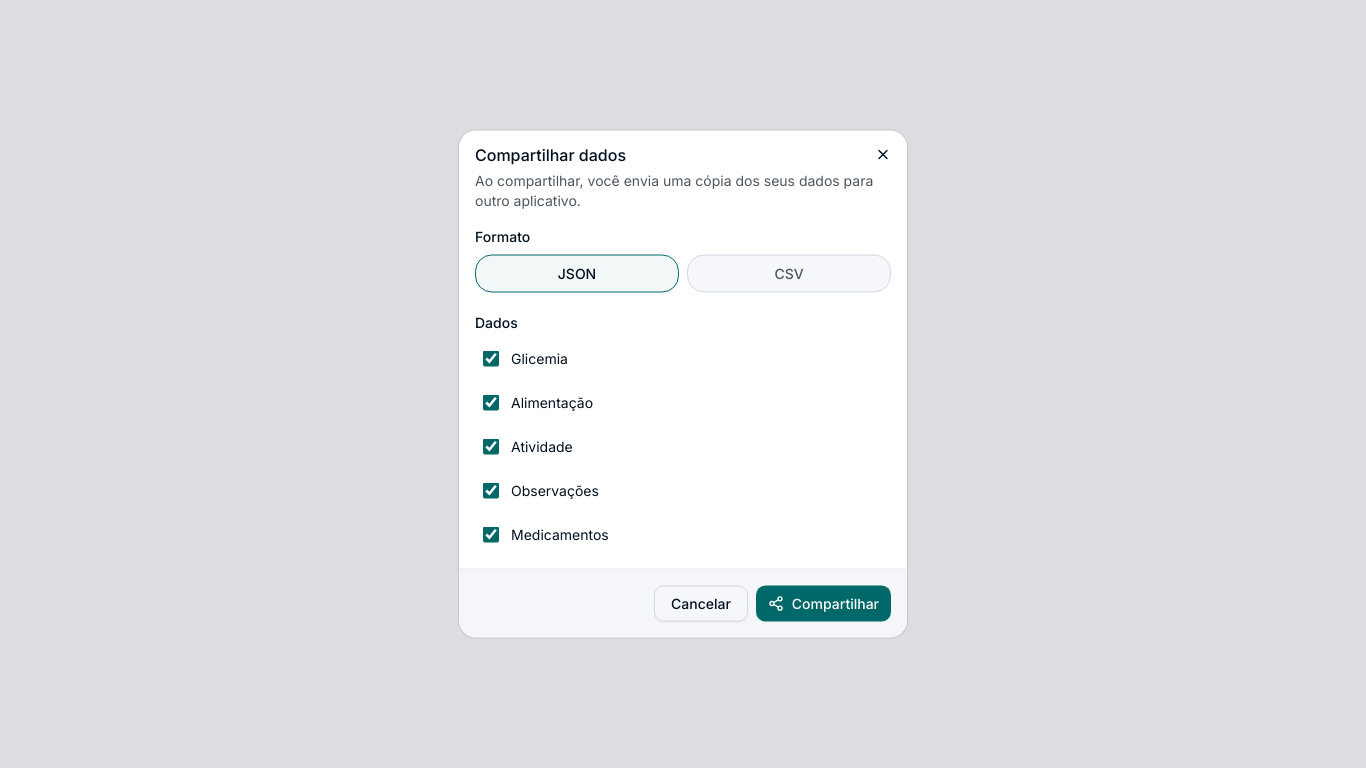
Scenario: ShareDataDialog › disables sharing while data selection is empty and warns on submit without selection
Click the checkbox labelled "Glicemia": point(491, 358) [483,350,499,366]
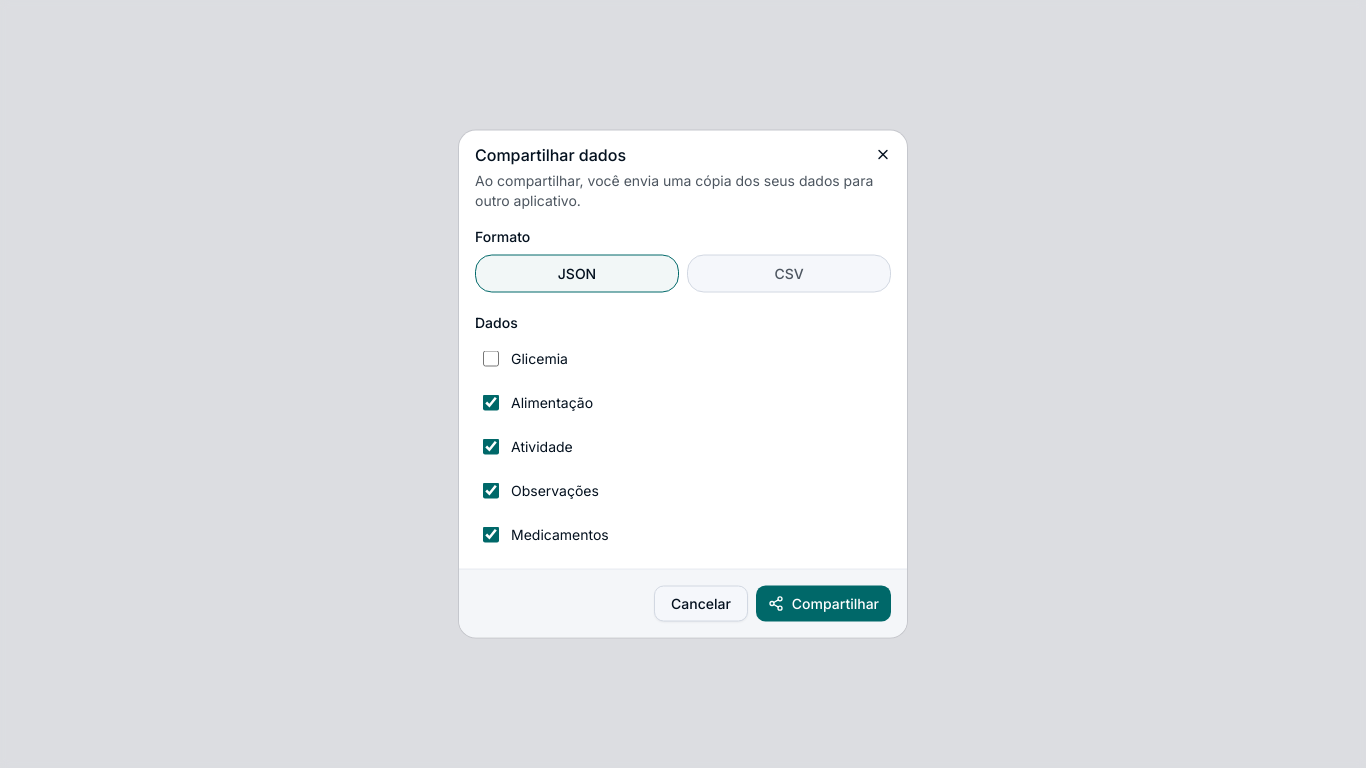
Click the checkbox labelled "Alimentação": point(491, 402) [483,394,499,410]
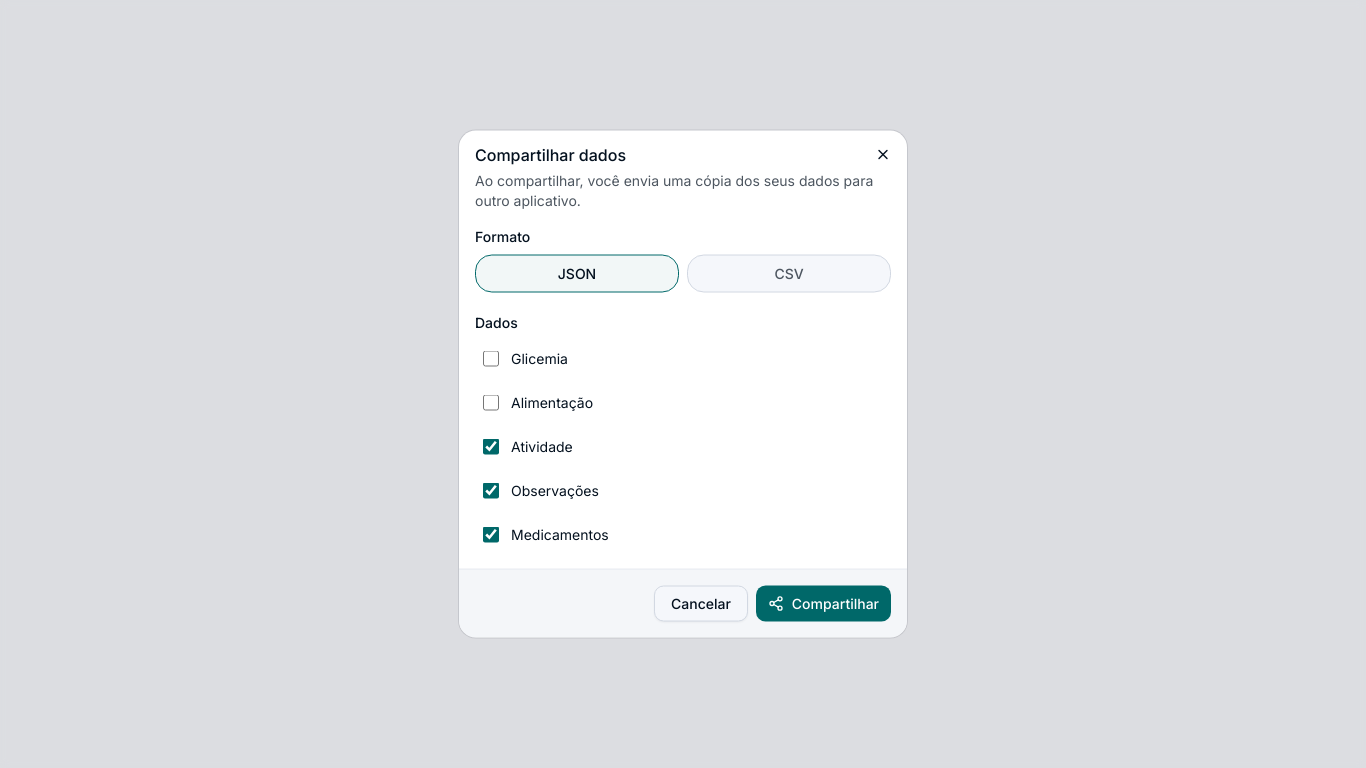
Click the checkbox labelled "Atividade": point(491, 446) [483,438,499,454]
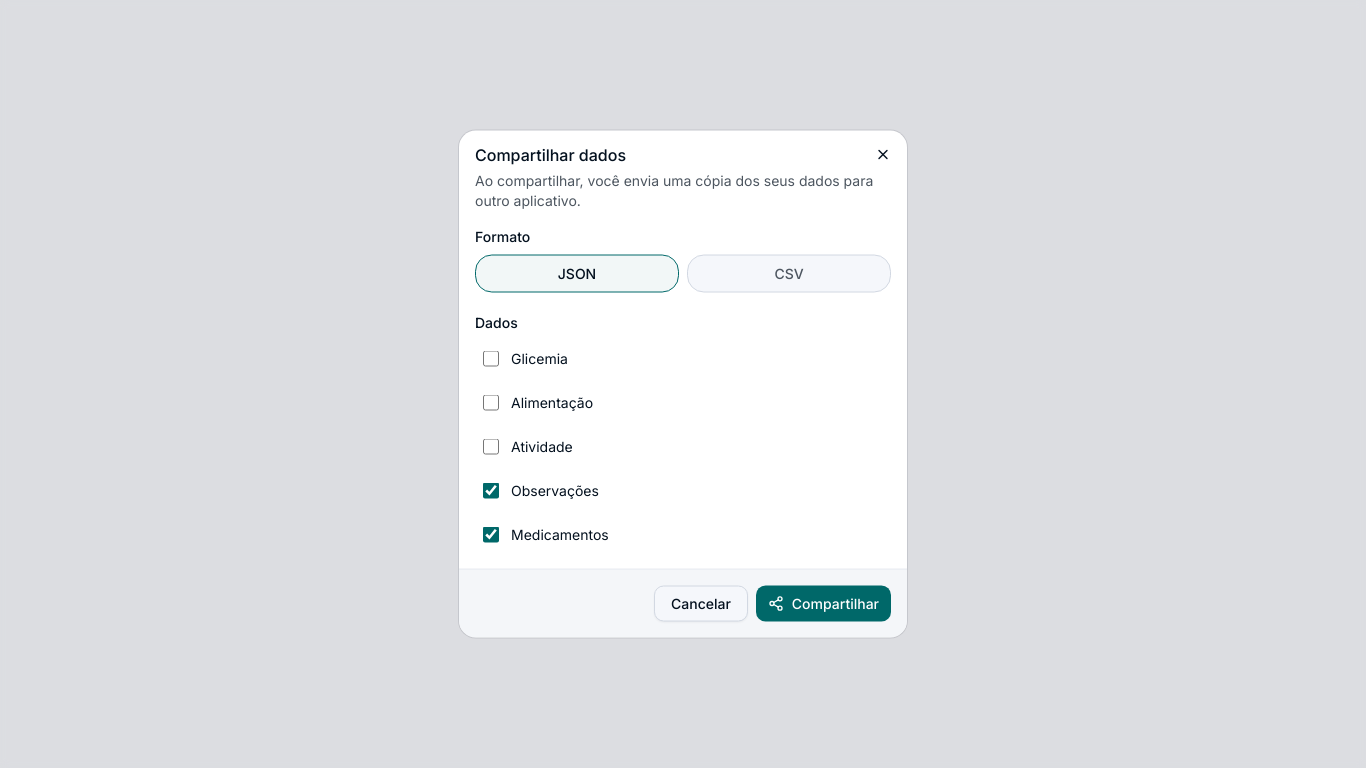
Click the checkbox labelled "Observações": point(491, 490) [483,482,499,498]
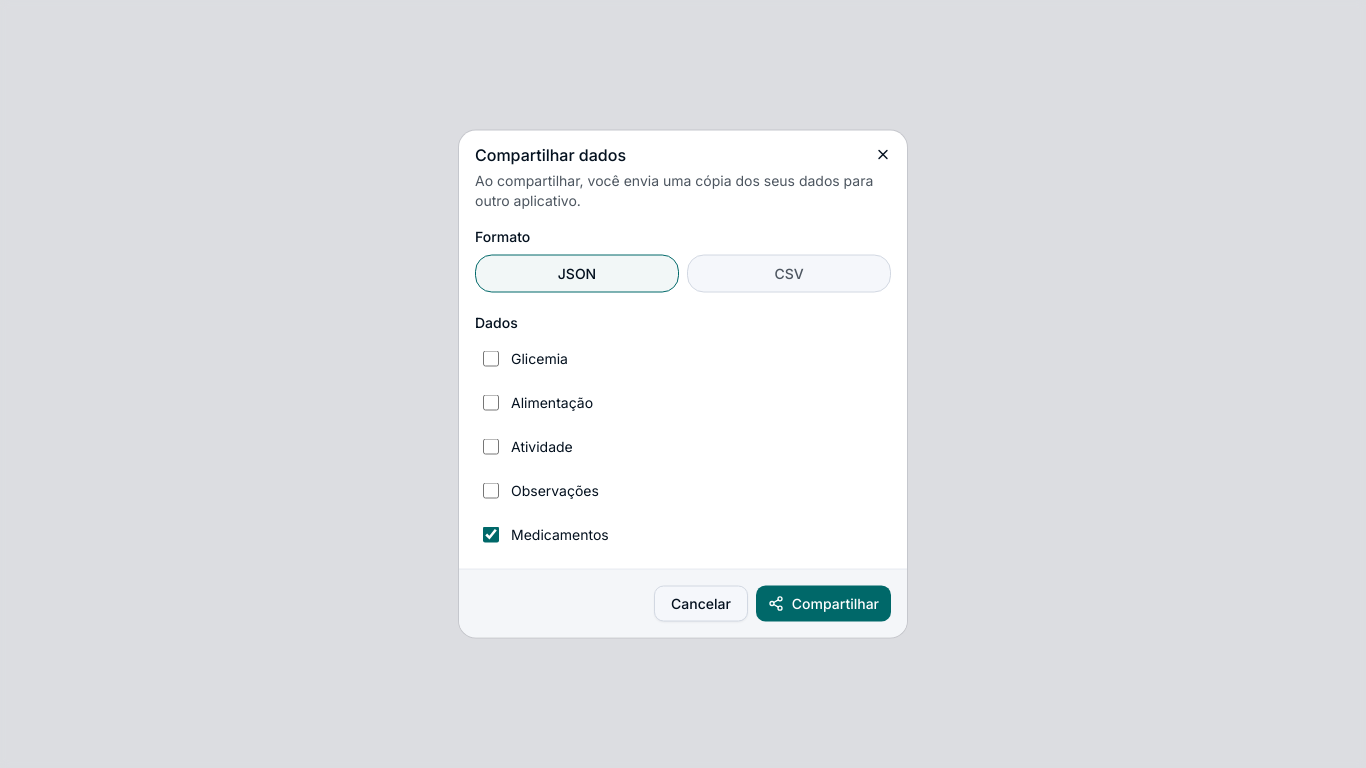
Click the checkbox labelled "Medicamentos": point(491, 534) [483,526,499,542]
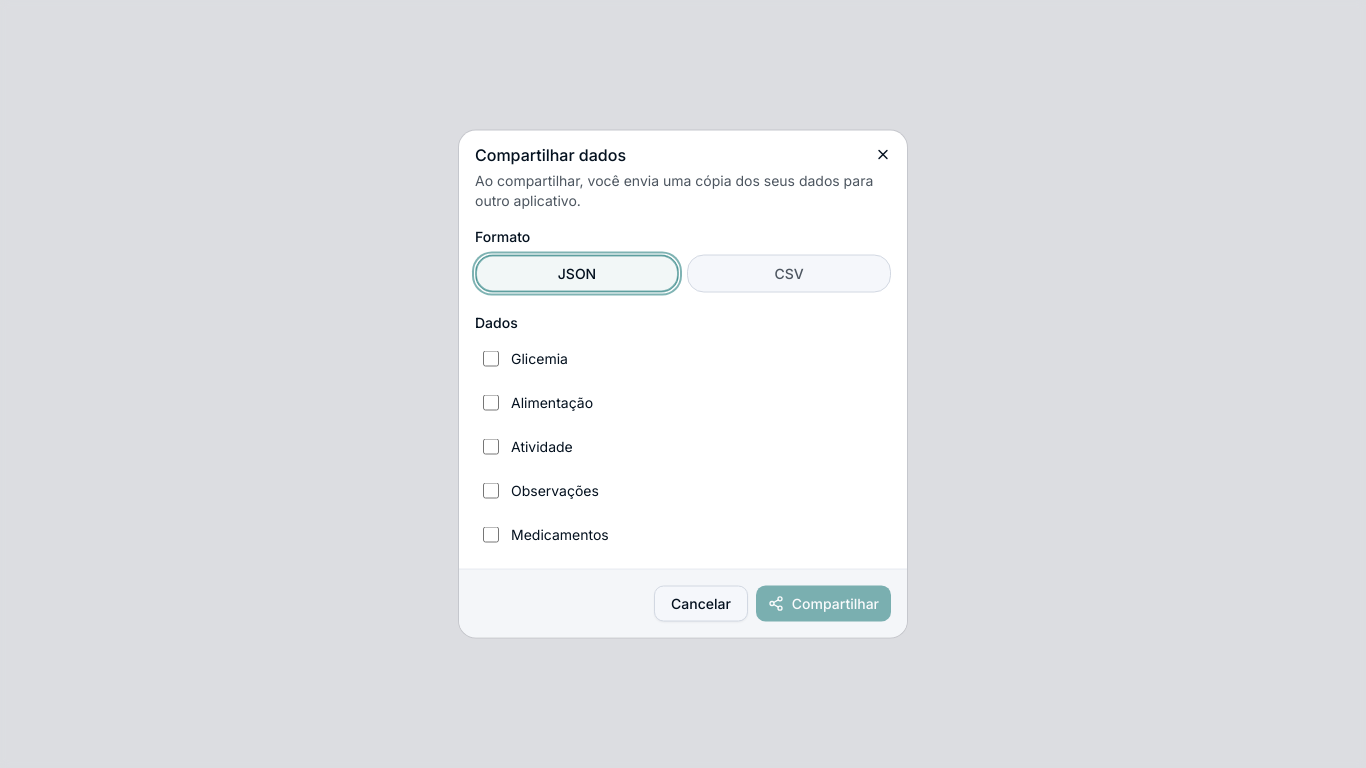
Expected: the button "Compartilhar" is disabled, [756,586,891,622]
